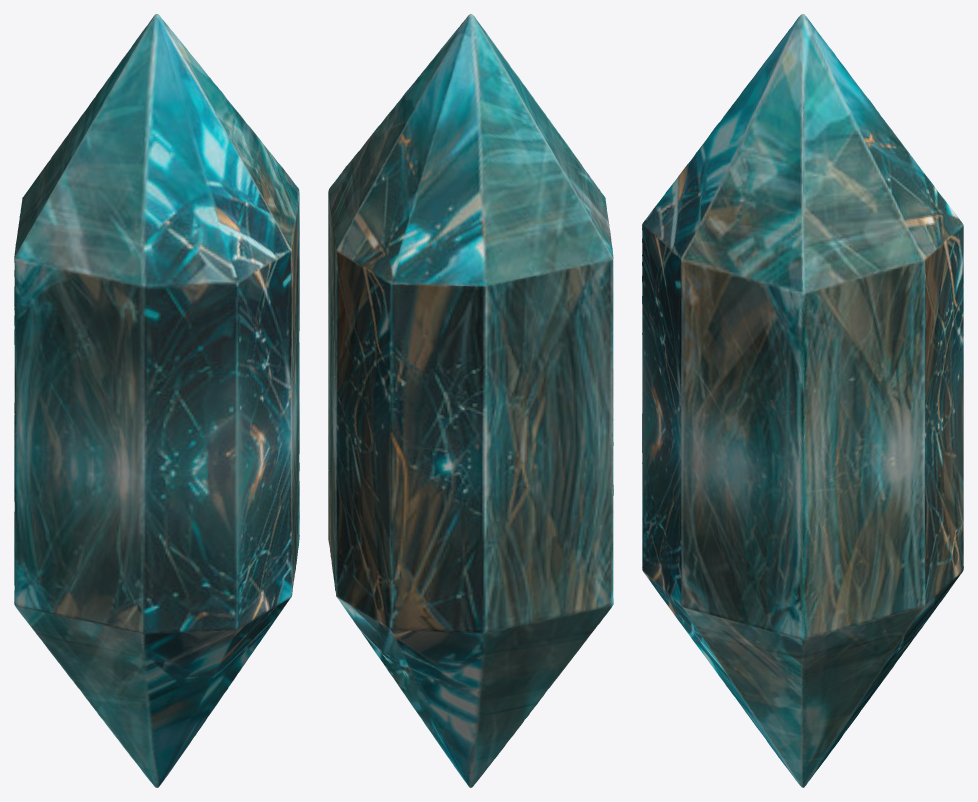
The picture shows the model from 3 angles, left to right: view 1: azimuth 30°, elevation 25°; view 2: azimuth 150°, elevation 25°; view 3: azimuth 270°, elevation 25°; orthographic projection.
Size of the model in its own units: 0.3853 by 1 by 0.3774.
1 material, 1 textured.
